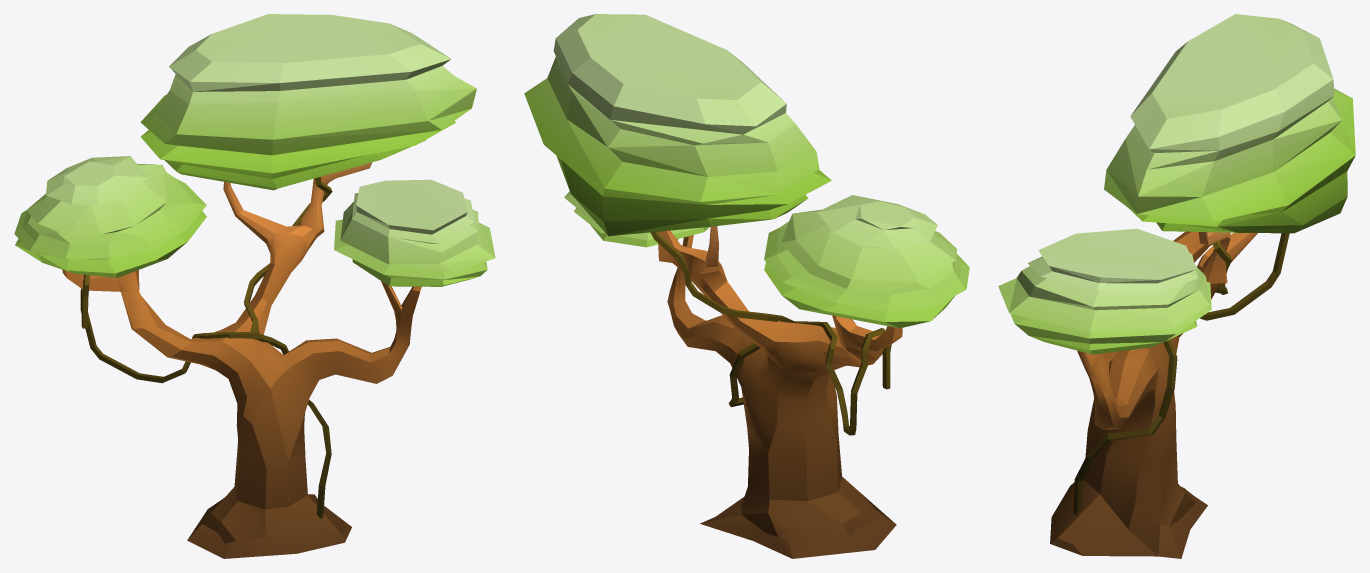
The model's file is Tree_B_2.fbx.
The picture shows the model from 3 angles, left to right: view 1: azimuth 30°, elevation 25°; view 2: azimuth 150°, elevation 25°; view 3: azimuth 270°, elevation 25°; orthographic projection. The views are drawn at different scales.
Visible parts, largest first — view 1: Tree_B_2; view 2: Tree_B_2; view 3: Tree_B_2.
Boxes of the visible parts, x1=… form: Tree_B_2: x1=14, y1=14, x2=495, y2=558; Tree_B_2: x1=524, y1=14, x2=969, y2=558; Tree_B_2: x1=998, y1=14, x2=1355, y2=558.
Size of the model in its own units: 321 by 329 by 212.
